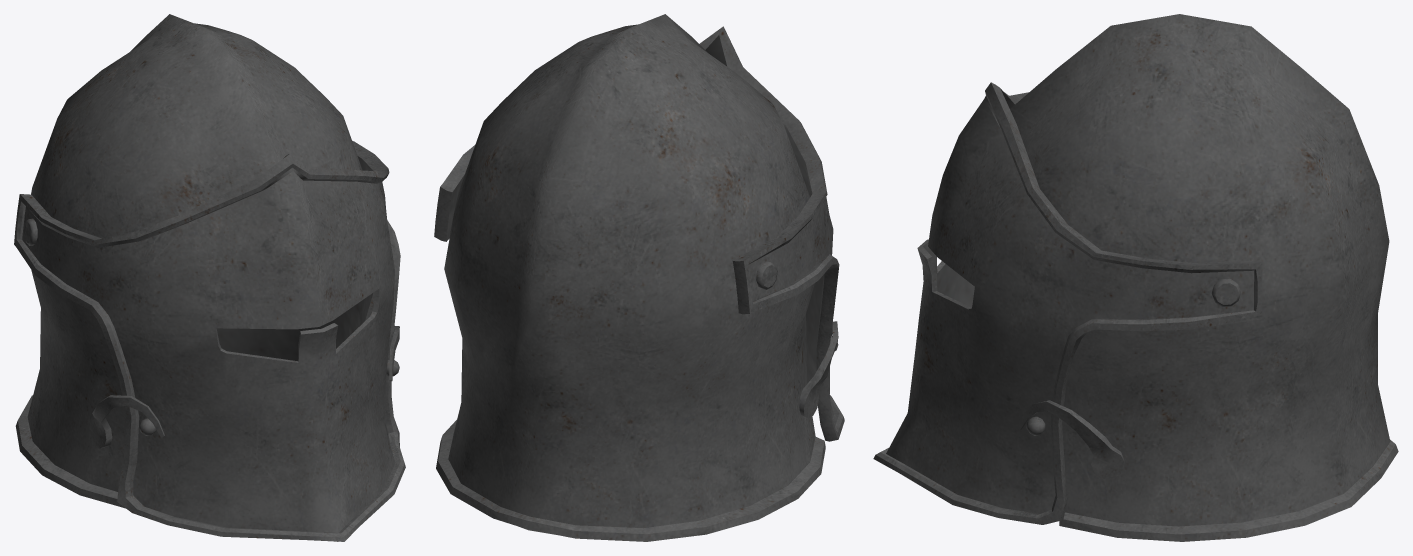
Rendered from w_helmet_alt__simple-steel-helmet-game-model.glb.
The picture shows the model from 3 angles, left to right: view 1: azimuth 30°, elevation 25°; view 2: azimuth 150°, elevation 25°; view 3: azimuth 270°, elevation 25°; orthographic projection. The views are drawn at different scales.
Parts seen in each view (by area): view 1: visor__0; view 2: visor__0; view 3: visor__0.
Part boxes in pixels (x1=…): visor__0: x1=14, y1=14, x2=405, y2=541; visor__0: x1=434, y1=14, x2=844, y2=541; visor__0: x1=873, y1=14, x2=1398, y2=541.
Size of the model in its own units: 8.08 by 9.86 by 10.44.
1 material, 1 textured.
